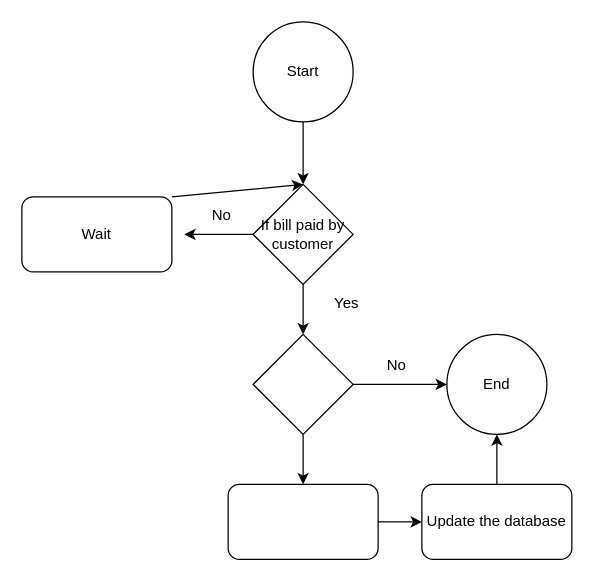
Some shapes in this 594 by 581 pixel diagram are drawn without their labels. The centre of each missing label's shape, as x and y in pixels:
Ask customer for recommendation: the point at 302,383
Take recommendation: the point at 302,521
